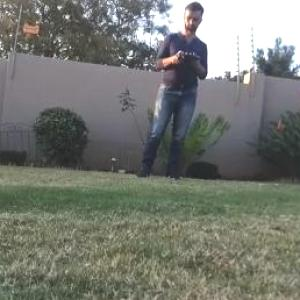follow: (128, 0, 212, 186)
